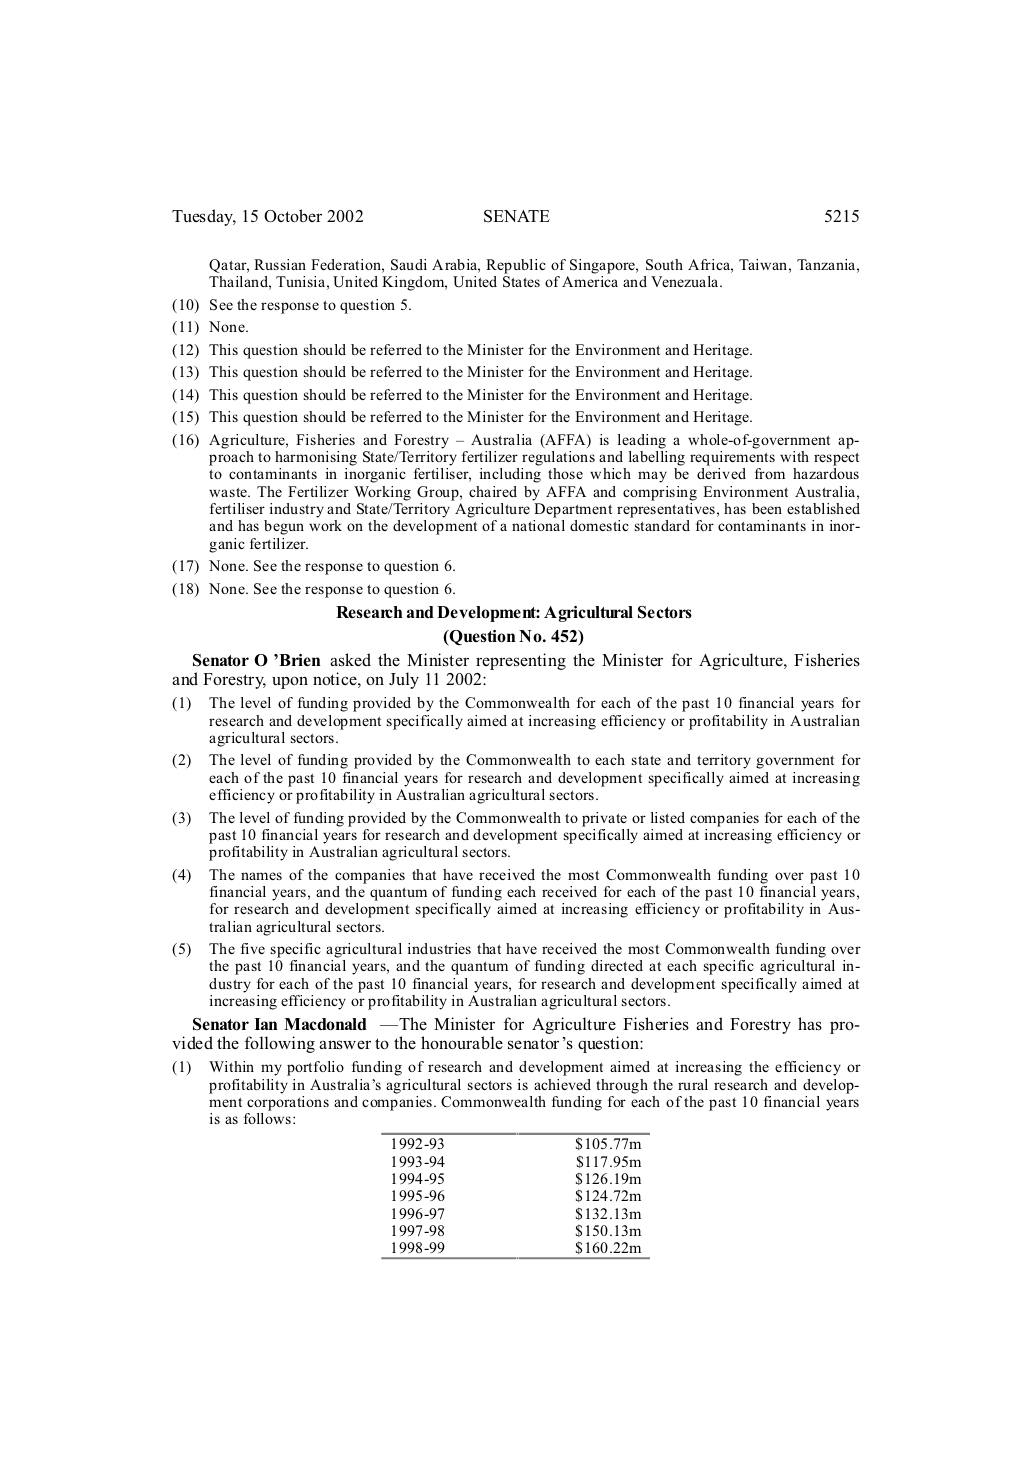Table: (380, 1132, 649, 1259)
